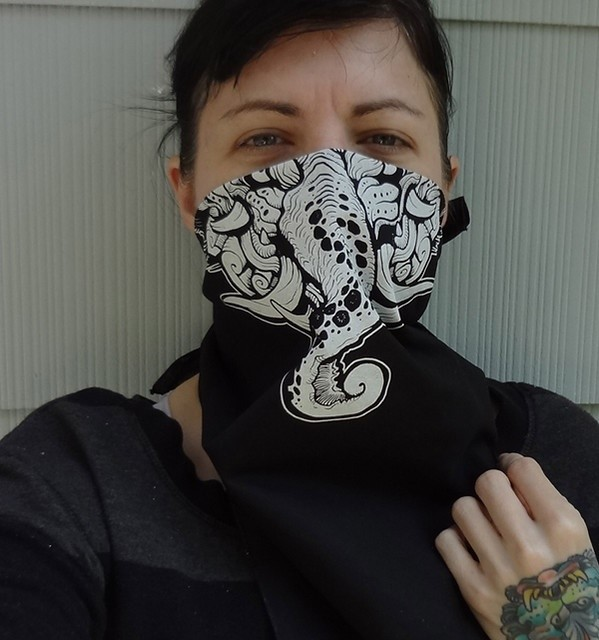face_with_mask: (163, 6, 467, 340)
